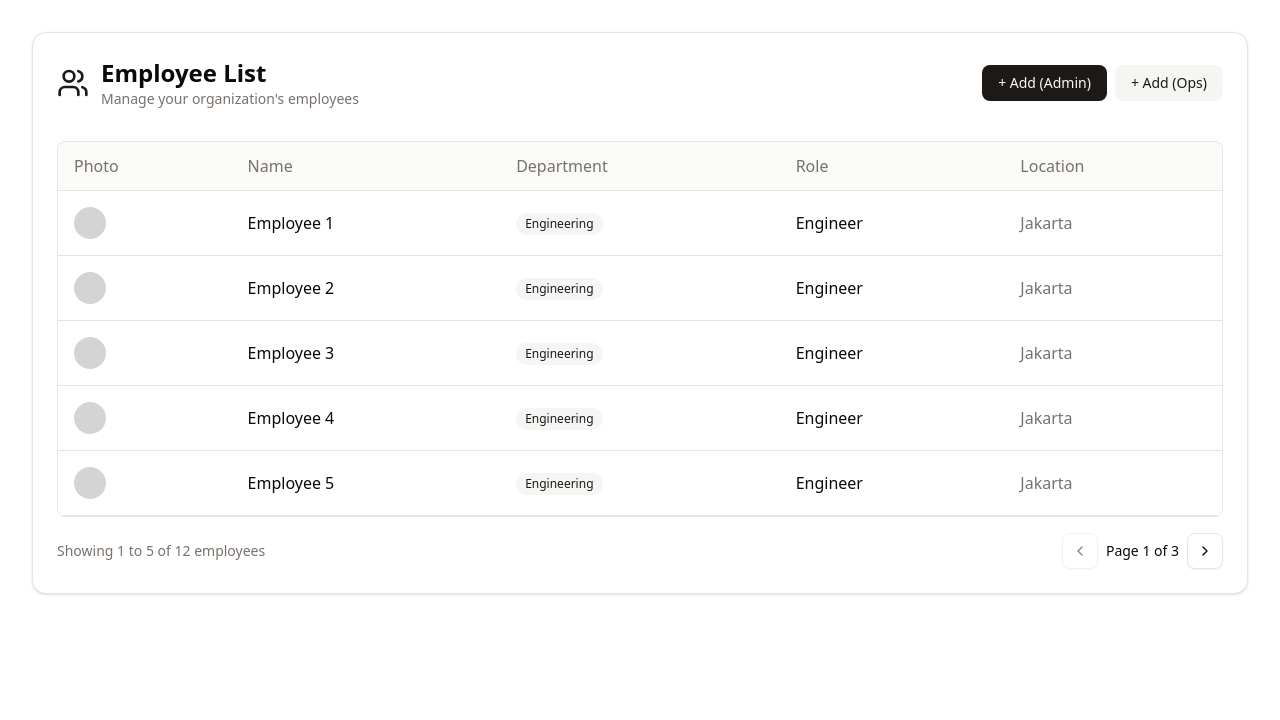
Test case: EmployeeList Component › should paginate employees correctly
Check: the text "Employee 1" is shown, box x1=232 y1=190 x2=500 y2=255
Check: the text "Employee 5" is shown, box x1=232 y1=450 x2=500 y2=515
// Navigate to next page - find button by testing ID or just get all buttons
Click the 4th button: {"x": 1205, "y": 550} x1=1187 y1=532 x2=1223 y2=568
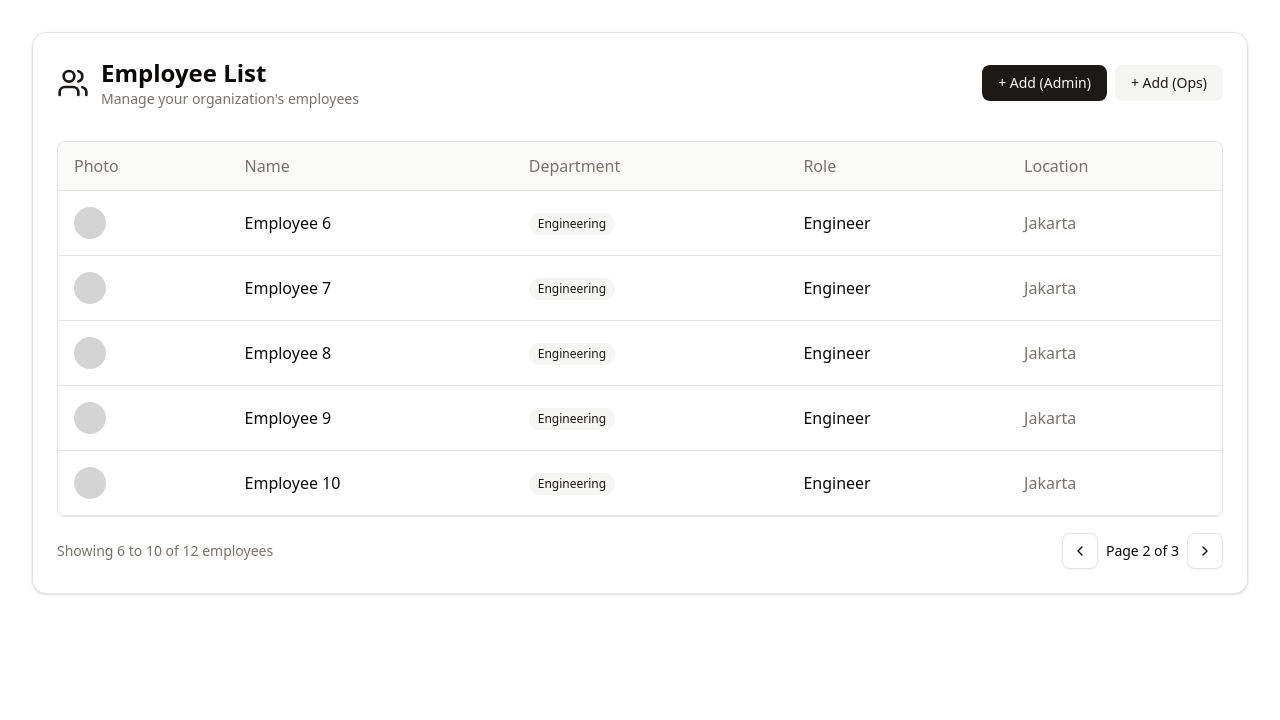
Check: the text "Employee 6" is shown, box x1=228 y1=190 x2=513 y2=255
